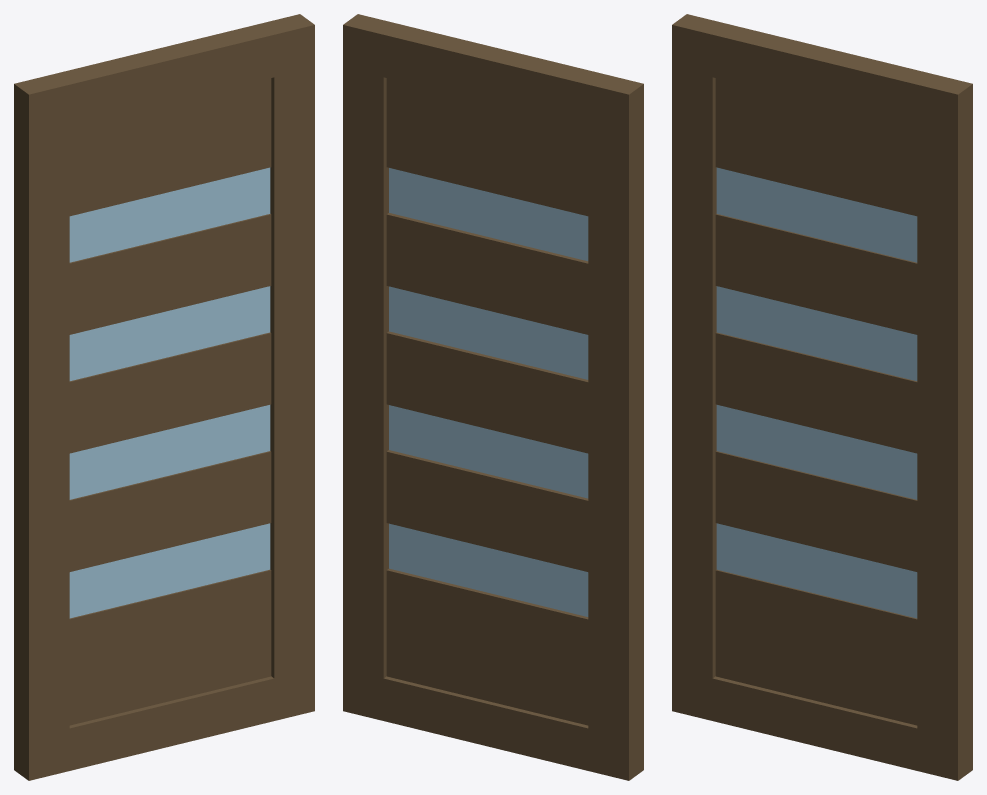
File: Door5_C3.fbx
3 renders of one model, left to right at view 1: azimuth 30°, elevation 25°; view 2: azimuth 150°, elevation 25°; view 3: azimuth 330°, elevation 25°, orthographic.
Parts seen in each view (by area): view 1: Door5_C3; view 2: Door5_C3; view 3: Door5_C3.
Part boxes in pixels (bbox=[...]): Door5_C3: bbox=[14, 14, 314, 780]; Door5_C3: bbox=[343, 14, 643, 780]; Door5_C3: bbox=[672, 14, 972, 780].
Bounding box in the file's own units: 0.89 × 2.04 × 0.08.
